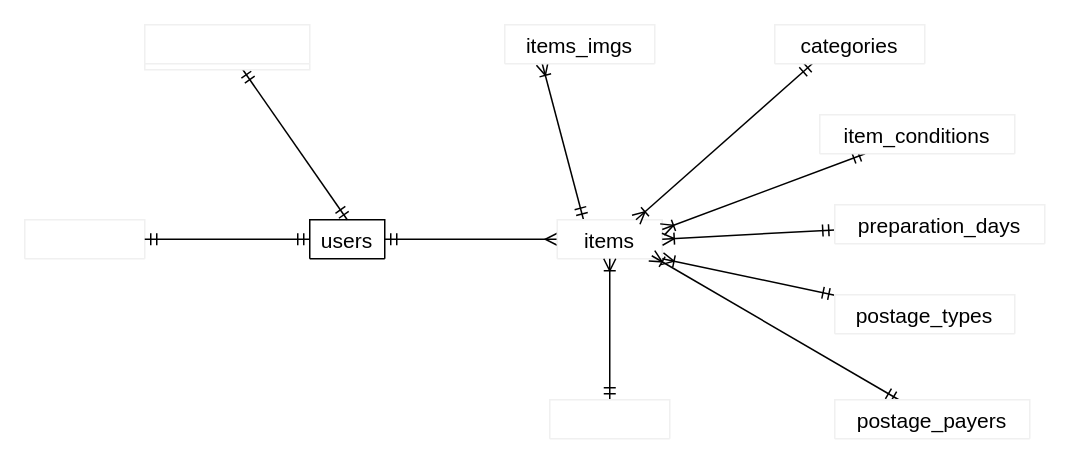
This 1070x464 diagram has some shape labels left out. Each missing label, with the centre of its shape:
"brands" belongs at (x=609, y=418).
"credit_cards" belongs at (x=226, y=46).
"profiles" belongs at (x=84, y=238).
